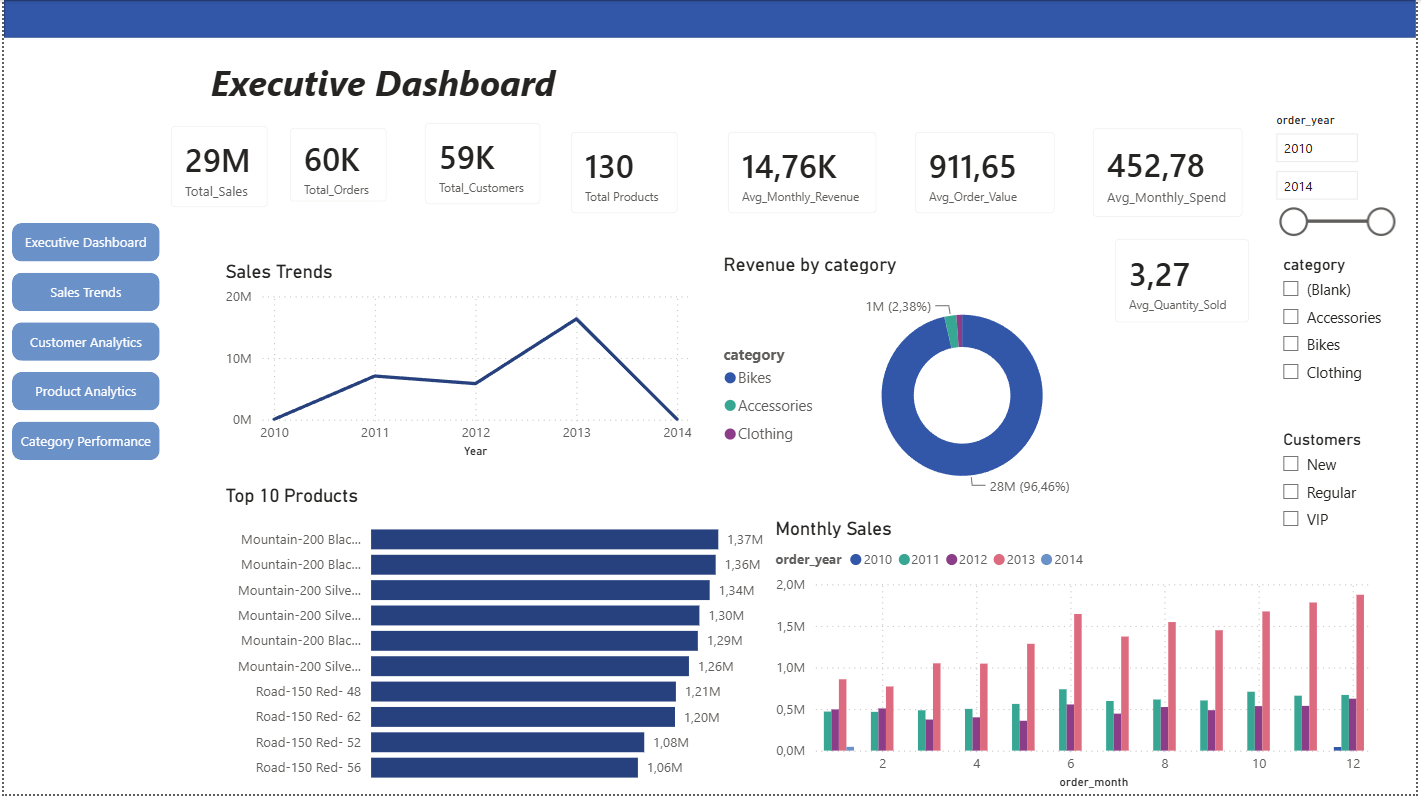

The page's visual inventory and layout, read from the dashboard file:
{"tool":"powerbi","page":{"name":"Executive Dashboard","canvas":[1280,720],"ordinal":0},"visuals":[{"type":"cardVisual","fields":{"Data":["Sum(gold report_products.total_sales)"]},"box":[134.2,105.2,122.4,108.8],"z":0},{"type":"cardVisual","fields":{"Data":["Sum(gold report_products.total_orders)"]},"box":[234.9,106.1,122.4,101.6],"z":1000},{"type":"cardVisual","fields":{"Data":["Count(gold report_products.product_name)"]},"box":[496.9,102.5,131.5,108.8],"z":2000},{"type":"cardVisual","fields":{"Data":["Sum(gold report_products.total_customers)"]},"box":[357.3,105.2,139.6,108.8],"z":3000},{"type":"cardVisual","fields":{"Data":["Avg(gold report_products.avg_monthly_revenue)"]},"box":[639.3,102.5,169.6,108.8],"z":4000},{"type":"cardVisual","fields":{"Data":["Avg(gold report_customers.avg_order_value)"]},"box":[808.9,102.5,161.4,108.8],"z":5000},{"type":"cardVisual","fields":{"Data":["Avg(gold report_customers.total_quantity)"]},"box":[990.2,199.5,156.9,110.6],"z":6000},{"type":"cardVisual","fields":{"Data":["Avg(gold report_customers.avg_monthly_spend)"]},"box":[970.3,98.8,170.5,115.2],"z":7000},{"type":"donutChart","fields":{"Category":["gold report_products.category"],"Y":["Sum(gold report_products.total_sales)"]},"box":[647.5,229.4,352.7,239.4],"z":8000},{"type":"lineChart","title":"Sales Trends","fields":{"Y":["Sum(gold sales_summary.total_sales)"],"Category":["gold sales_summary.order_date.Variation.Date Hierarchy.Year","gold sales_summary.order_date.Variation.Date Hierarchy.Month"]},"box":[195.9,235.8,432.5,184.1],"z":9000},{"type":"barChart","title":"Top 10 Products","fields":{"Category":["gold report_products.product_name"],"Y":["Sum(gold report_products.total_sales)","select"]},"box":[195.9,438.9,497.8,281.1],"z":10000},{"type":"textbox","box":[149.6,47.2,388.1,55.3],"z":11000},{"type":"clusteredColumnChart","title":"Monthly Sales","fields":{"Category":["gold sales_trends_monthly.order_month"],"Y":["Sum(gold sales_trends_monthly.total_sales)"],"Series":["gold sales_trends_monthly.order_year"]},"box":[694.6,468.8,550.4,251.2],"z":12000},{"type":"slicer","fields":{"Values":["gold sales_trends_monthly.order_year"]},"box":[1140.8,97,128.8,129.7],"z":13000},{"type":"slicer","fields":{"Values":["gold report_products.category"]},"box":[1147.1,226.7,117.9,158.7],"z":14000},{"type":"slicer","fields":{"Values":["gold Customer_Segmentation.Customer_Segment"]},"box":[1147.1,385.4,133.3,130.6],"z":15000},{"type":"shape","box":[0,0,1280.4,34.5],"z":16000},{"type":"pageNavigator","box":[6.3,211.3,134.2,217.6],"z":17000}]}

Visuals, with their boxes in screenshot pixels (x1, y1, x2, y2), scaled from the page's 1280x720 canvas onto the 1421x798 screenshot:
cardVisual - Sum(gold report_products.total_sales): 149, 117, 285, 237
cardVisual - Sum(gold report_products.total_orders): 261, 118, 397, 230
cardVisual - Count(gold report_products.product_name): 552, 114, 698, 234
cardVisual - Sum(gold report_products.total_customers): 397, 117, 552, 237
cardVisual - Avg(gold report_products.avg_monthly_revenue): 710, 114, 898, 234
cardVisual - Avg(gold report_customers.avg_order_value): 898, 114, 1077, 234
cardVisual - Avg(gold report_customers.total_quantity): 1099, 221, 1273, 344
cardVisual - Avg(gold report_customers.avg_monthly_spend): 1077, 110, 1266, 237
donutChart - gold report_products.category x Sum(gold report_products.total_sales): 719, 254, 1110, 520
"Sales Trends" lineChart: 217, 261, 698, 465
"Top 10 Products" barChart: 217, 486, 770, 797
textbox: 166, 52, 597, 114
"Monthly Sales" clusteredColumnChart: 771, 520, 1382, 797
slicer - gold sales_trends_monthly.order_year: 1266, 108, 1409, 251
slicer - gold report_products.category: 1273, 251, 1404, 427
slicer - gold Customer_Segmentation.Customer_Segment: 1273, 427, 1420, 572
shape: 0, 0, 1420, 38
pageNavigator: 7, 234, 156, 475
